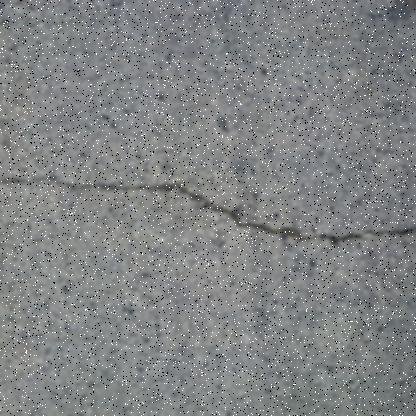Cracks: (0, 172, 416, 248)
